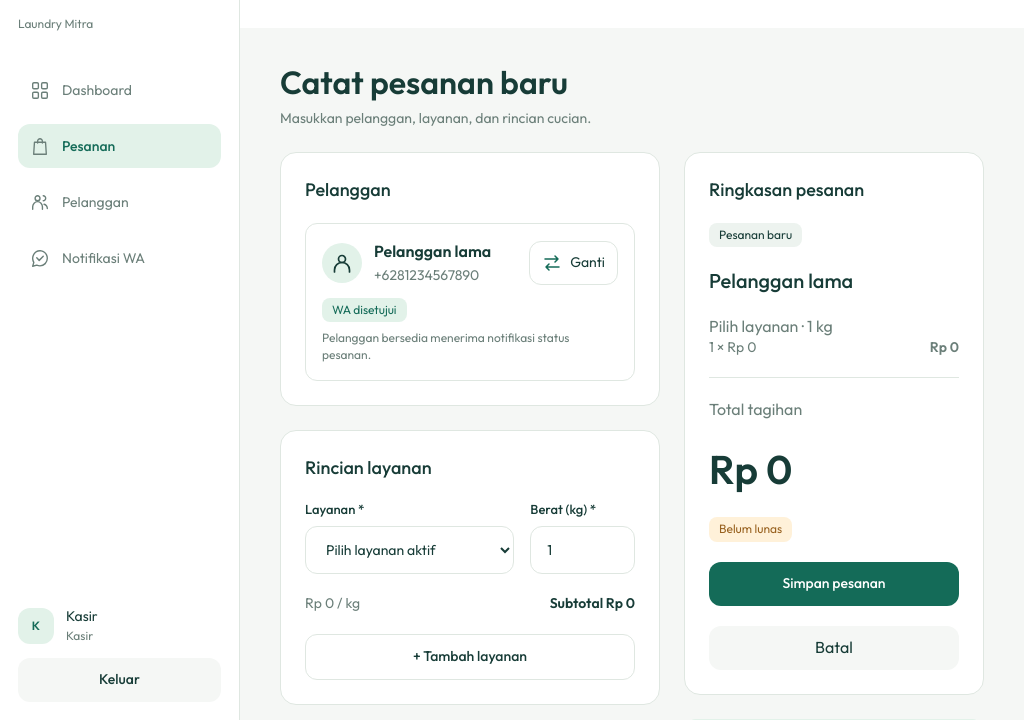
Test case: loads a preselected customer outside the first customer page
The width and height of the screenshot is (1024, 720).
Expected: the element named "Pelanggan terpilih" is shown, [305,223,635,381]
Expected: the element named "Pelanggan terpilih" shows "+6281234567890", [374,266,479,284]
Step 1. Select "Cuci · kg" in the dropdown labelled "Layanan *" → [410, 550], box [305,526,514,574]
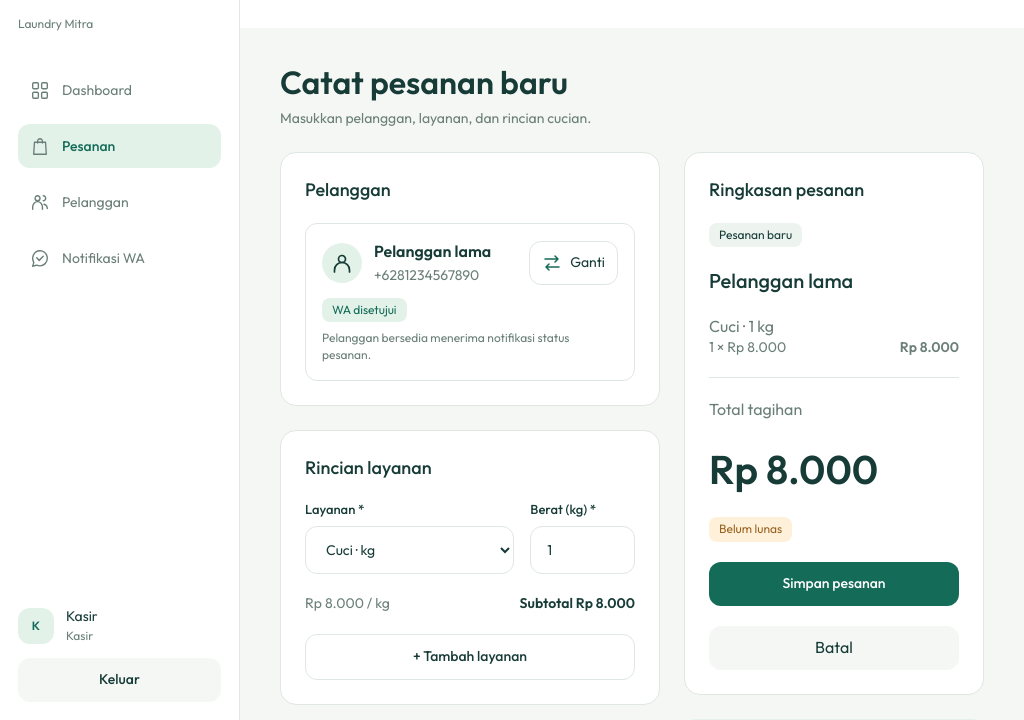
Step 2. Replace the text in the field labelled "Berat (kg) *" with "4" → [583, 550], box [530,526,635,574]
(page scrolled)
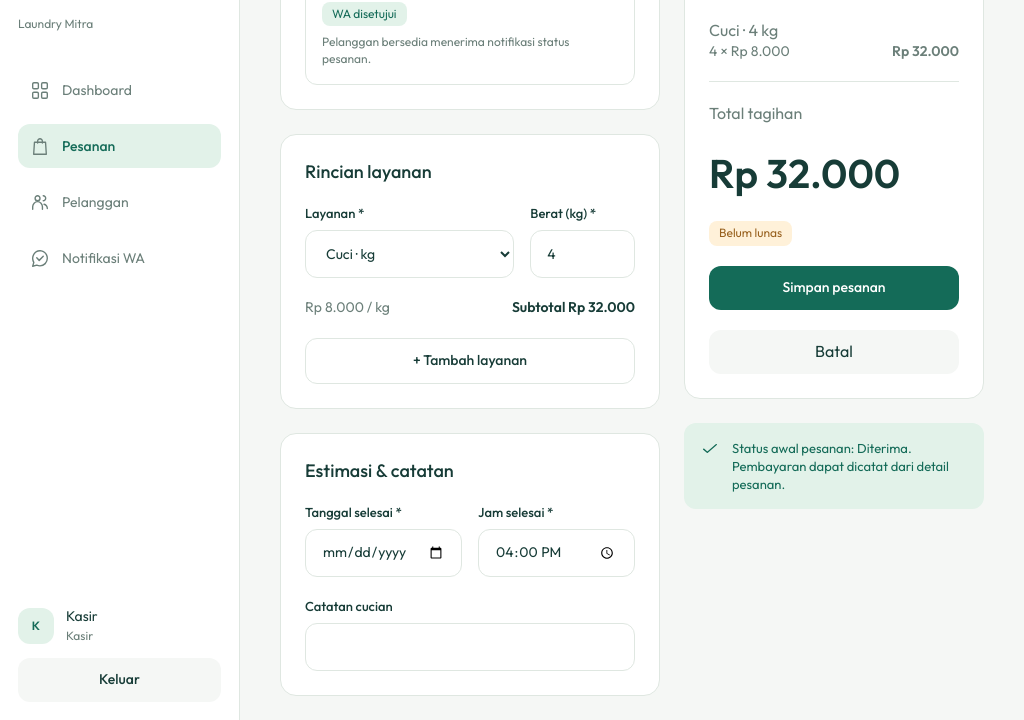
Step 3. Type "2099-10-20" into the date field labelled "Tanggal selesai *" → [384, 553], box [305,529,462,577]
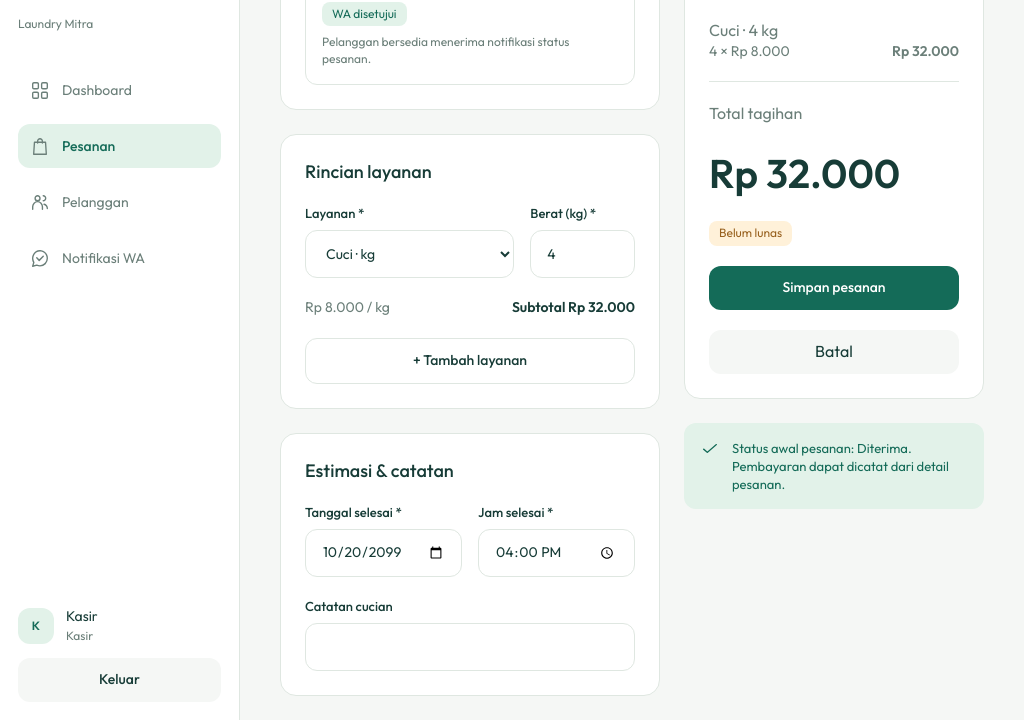
Step 4. Click the button "Simpan pesanan" → [834, 288], box [709,266,959,310]
(page scrolled)
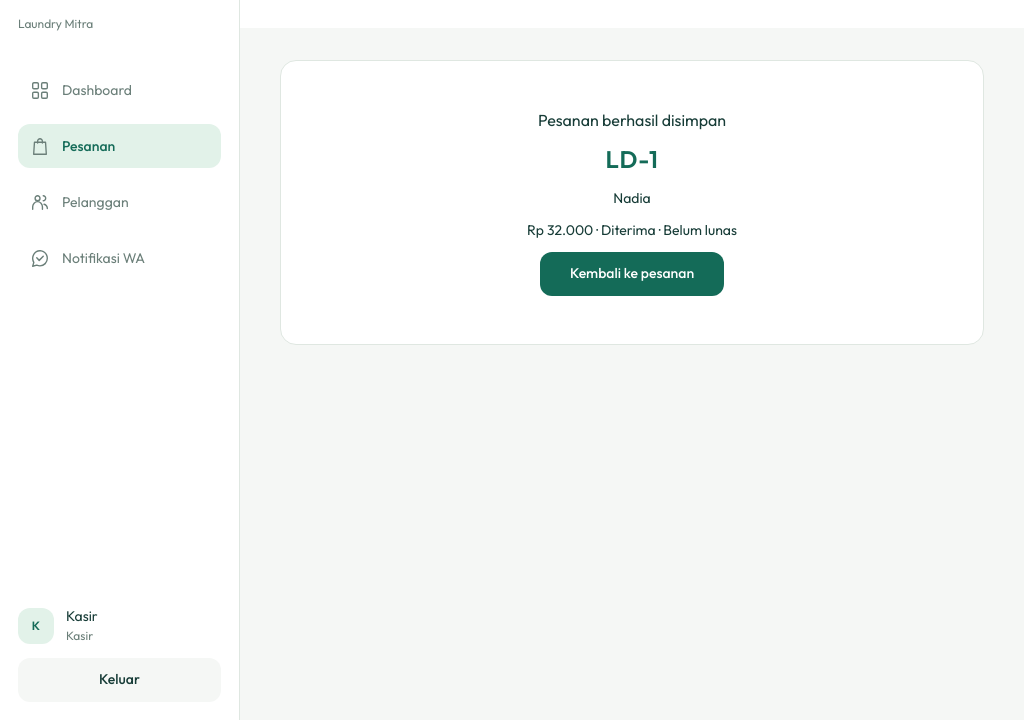
Now the heading "Pesanan berhasil disimpan" is shown, box [538,109,726,131]
